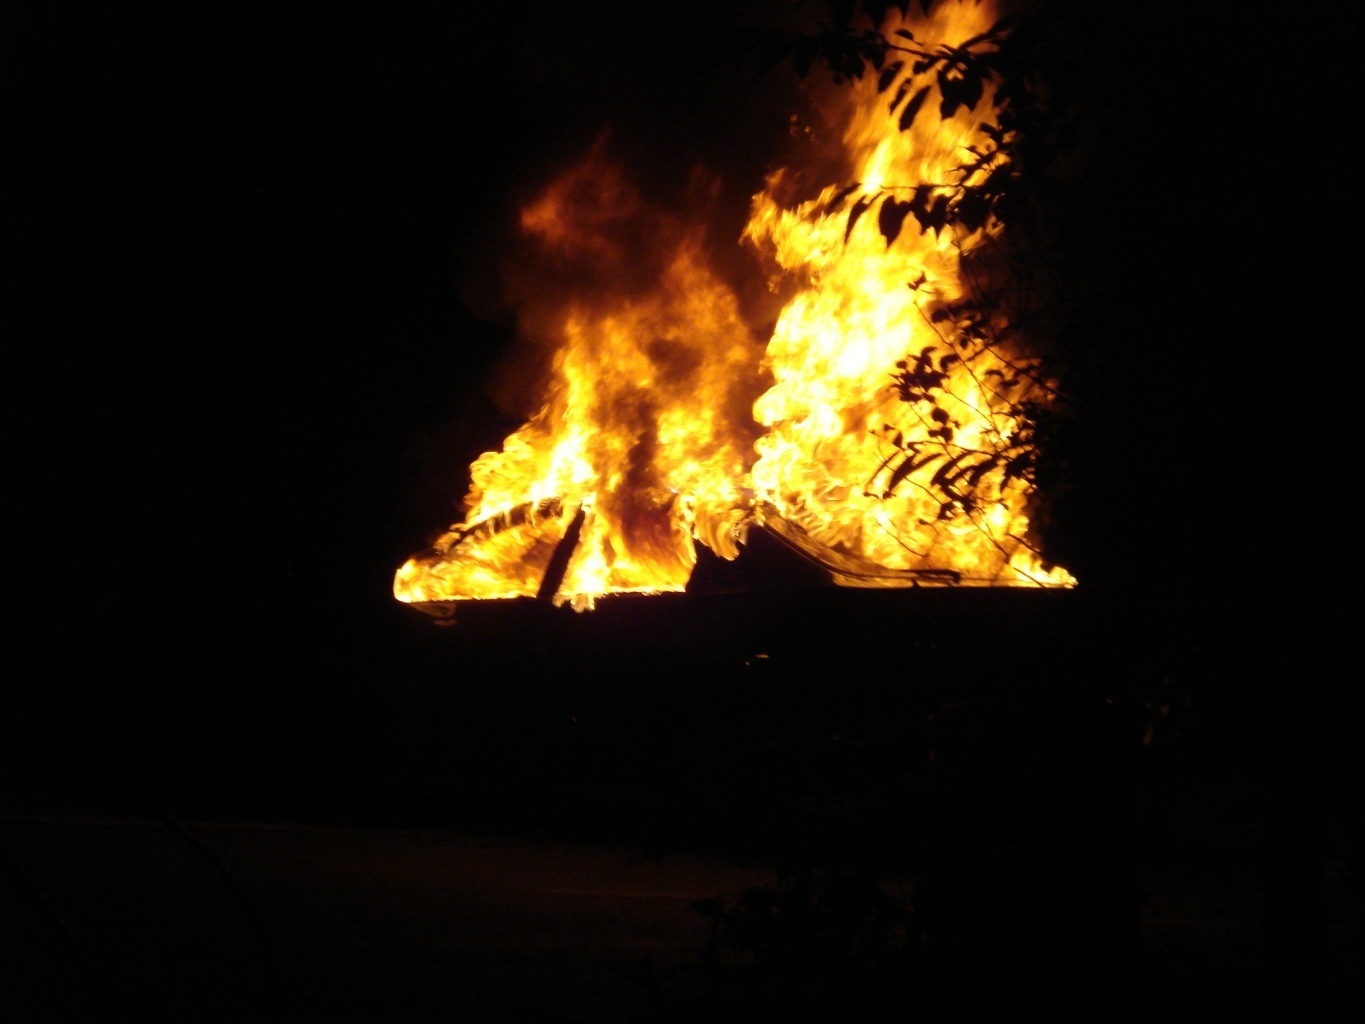fire: (375, 10, 1082, 615)
